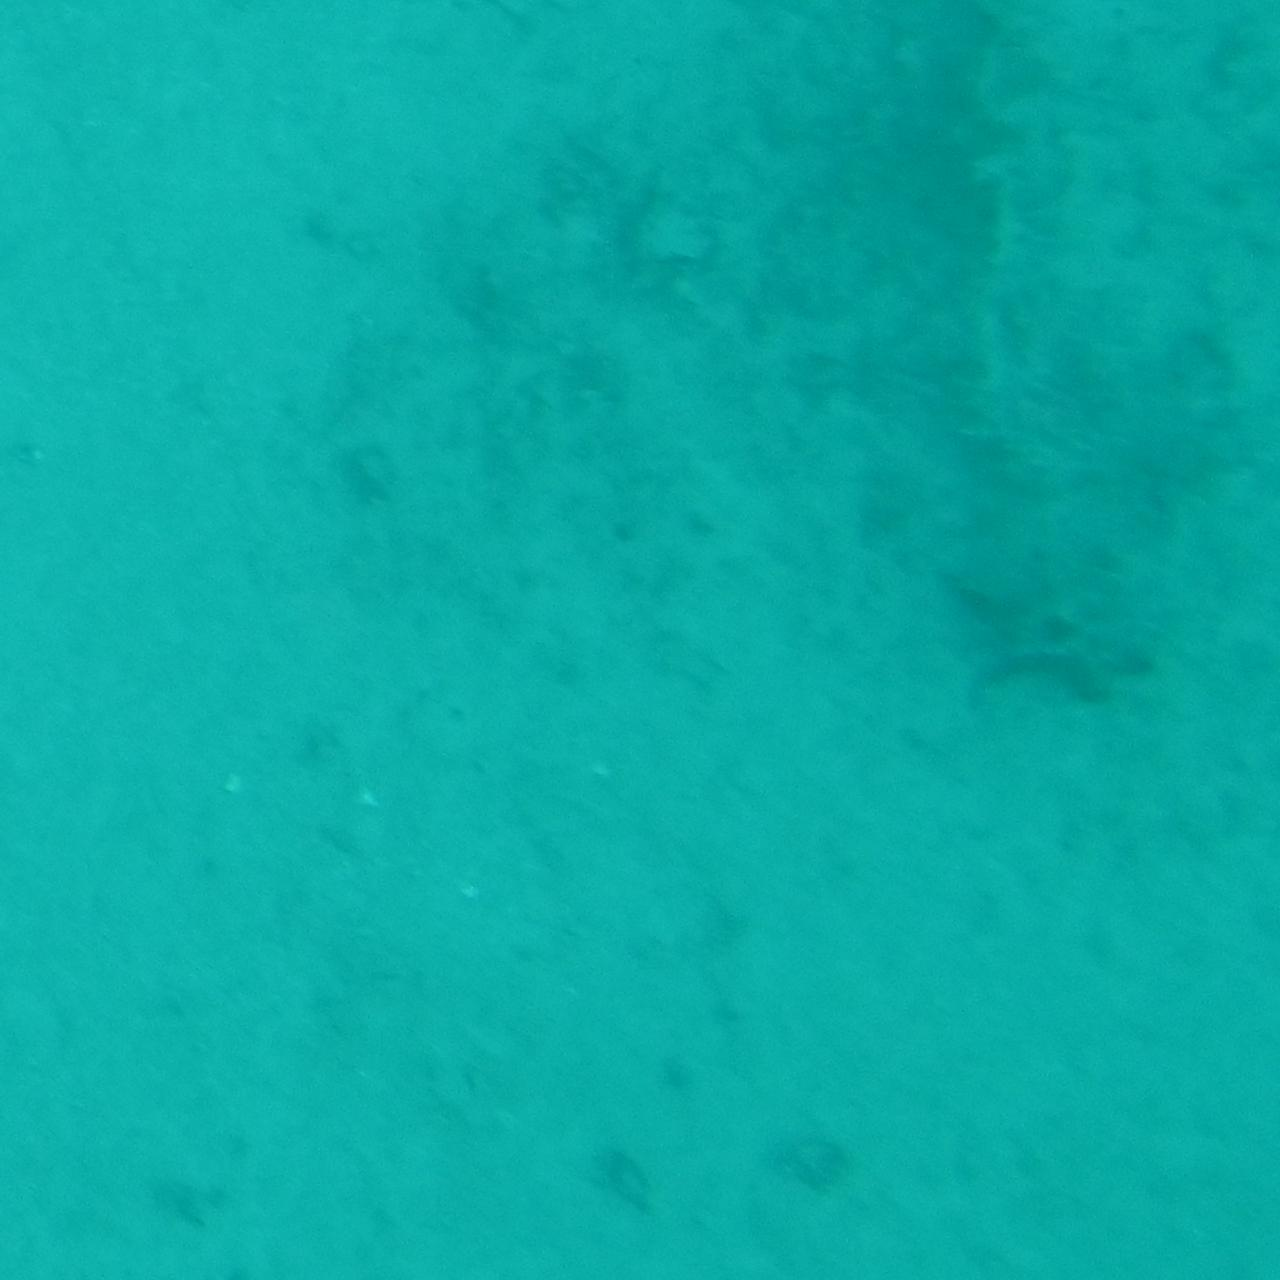Asteroidea: (922, 560, 1163, 720)
